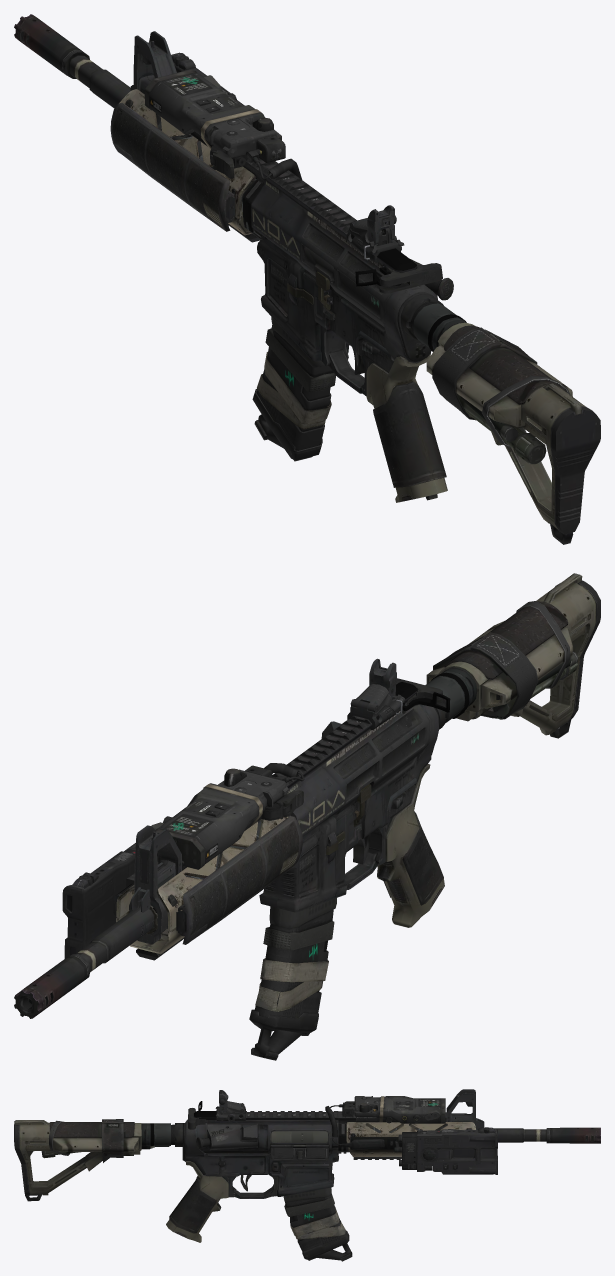
The model's file is gun-night.glb.
3 renders of one model, top to bottom at view 1: azimuth 30°, elevation 25°; view 2: azimuth 150°, elevation 25°; view 3: azimuth 270°, elevation 25°, orthographic. The views are drawn at different scales.
Visible parts, largest first — view 1: Object_4, Object_8, Object_7, Object_12, Object_5; view 2: Object_4, Object_8, Object_7, Object_12, Object_5; view 3: Object_4, Object_8, Object_11, Object_7, Object_12, Object_5.
Boxes of the visible parts, x1,y1,x2,y2 form: Object_4: (14, 14, 600, 544); Object_8: (144, 52, 302, 180); Object_7: (252, 317, 335, 461); Object_12: (130, 31, 404, 262); Object_5: (355, 248, 465, 351); Object_4: (14, 573, 600, 1018); Object_8: (62, 763, 304, 958); Object_7: (249, 898, 336, 1060); Object_12: (129, 658, 405, 944); Object_5: (395, 672, 469, 718); Object_4: (14, 1108, 600, 1242); Object_8: (325, 1096, 497, 1174); Object_11: (185, 1120, 338, 1198); Object_7: (283, 1187, 352, 1261); Object_12: (215, 1089, 484, 1130); Object_5: (150, 1101, 216, 1148).
Size of the model in its own units: 0.1131 by 0.315 by 1.
Materials: 6 (5 with a texture image).
